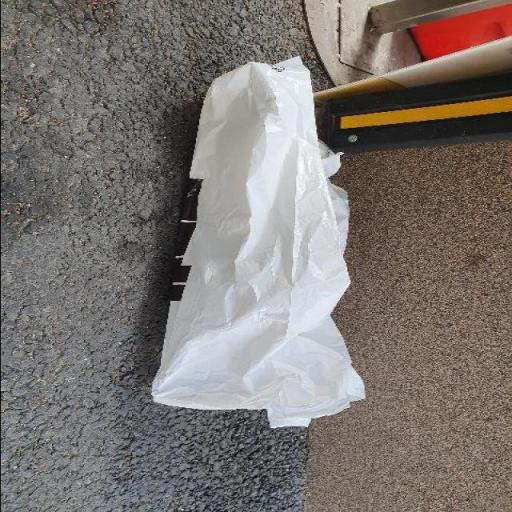plastic-bag: (148, 54, 367, 428)
